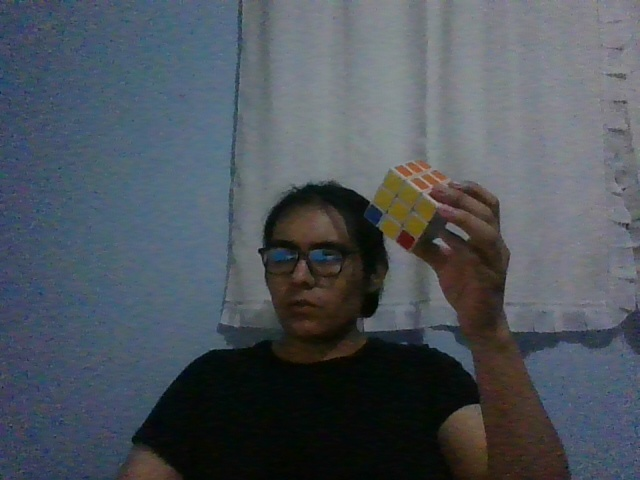rubik: (363, 158, 459, 252)
